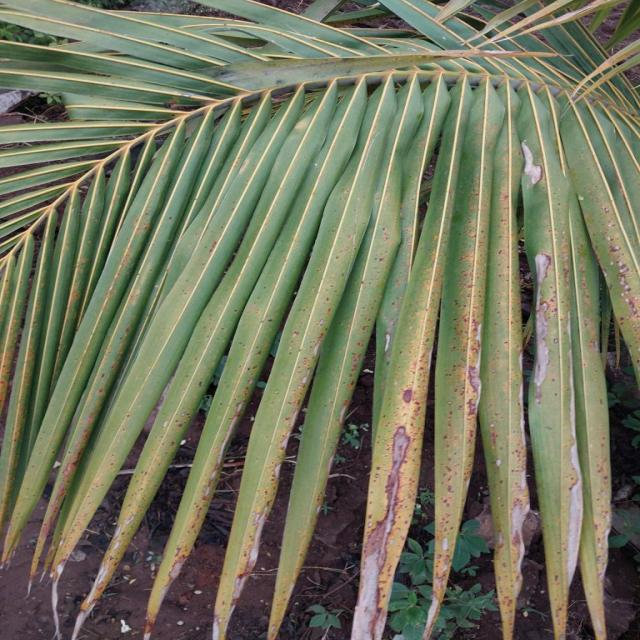gray leaf spot: (312, 137, 640, 632)
